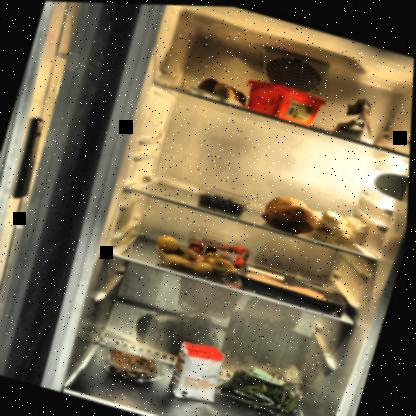blueberries: (198, 187, 251, 216)
butter: (241, 73, 331, 128)
chicken: (235, 263, 334, 307)
eggs: (197, 74, 252, 107)
green_beans: (216, 355, 323, 415)
mushrooms: (288, 199, 363, 245)
potato: (151, 233, 247, 286)
shrimp: (105, 342, 168, 386)
strawberries: (181, 228, 251, 272)
sweet_potato: (258, 189, 325, 238)
